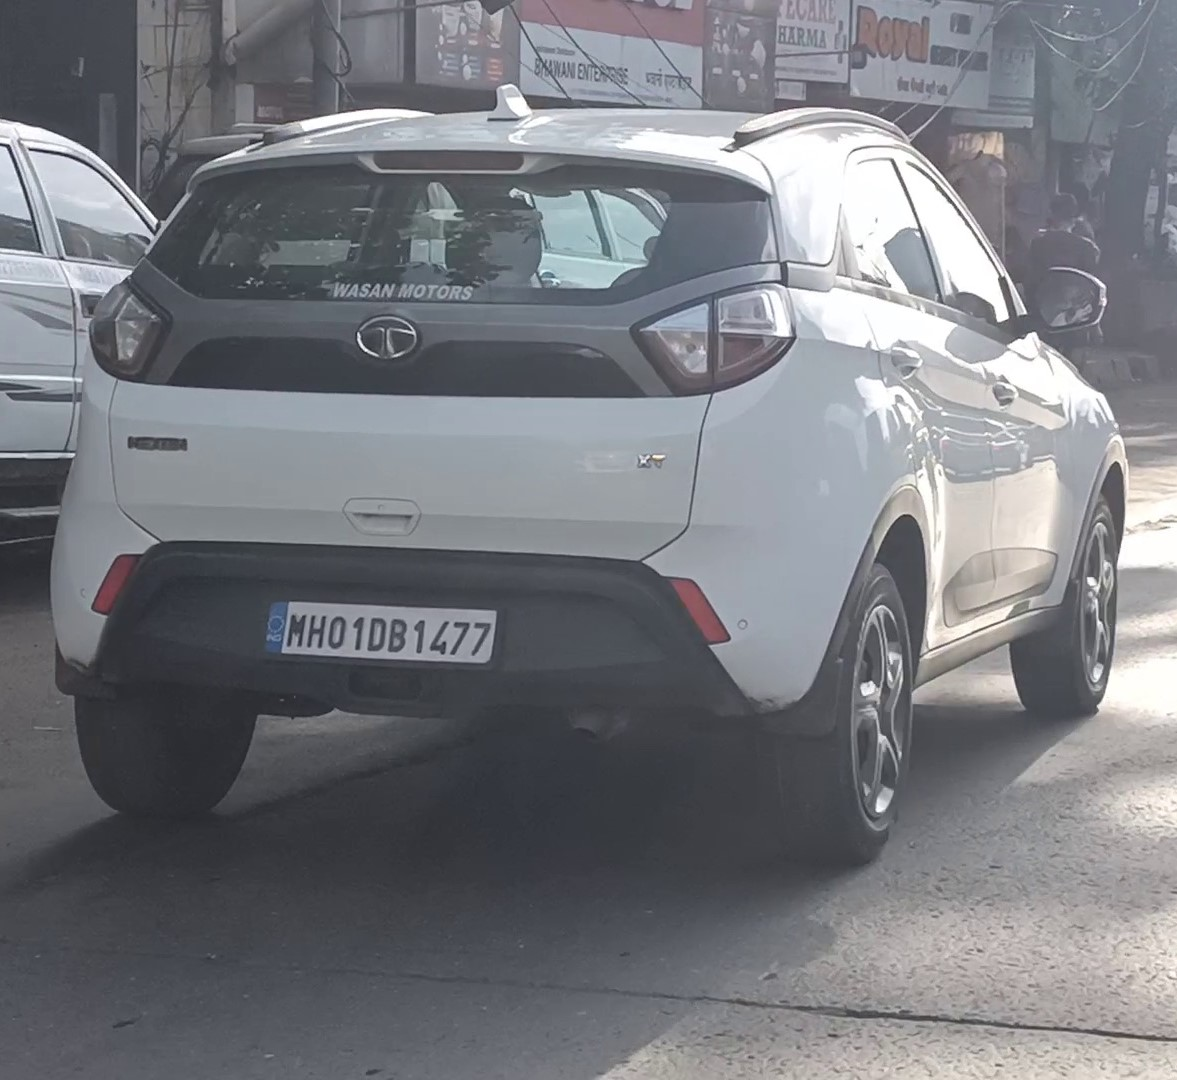MH01DB1477: (262, 602, 498, 663)
